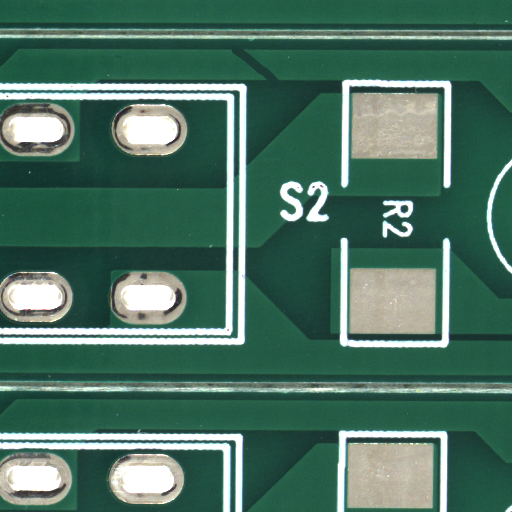Open_circuit: (257, 65, 310, 103)
